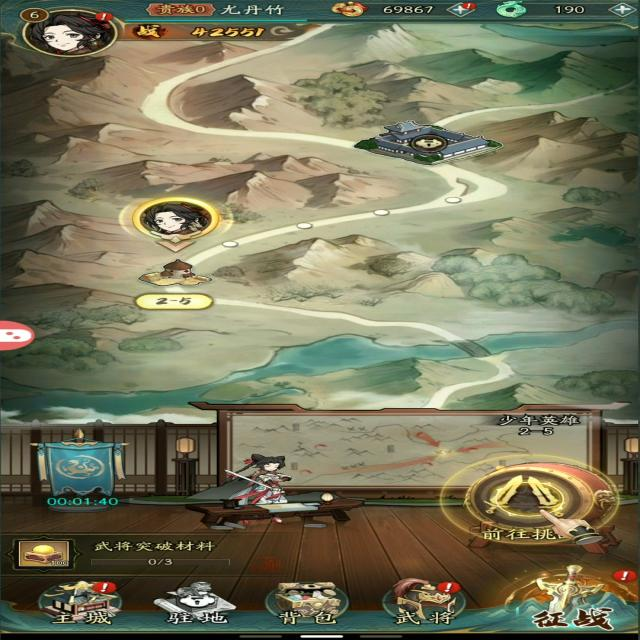hint-guide: (492, 475, 578, 523), (50, 584, 118, 623)
hint-reddot: (438, 580, 460, 593), (611, 570, 634, 582), (95, 10, 112, 24), (459, 2, 482, 11)
navigation-bag: (260, 576, 347, 627)
navigation-fight: (500, 566, 637, 635)
navigation-hero: (380, 573, 472, 626)
navigation-main: (31, 577, 138, 628)
navigation-role: (13, 6, 123, 64)
navigation-station-off: (159, 580, 230, 627)
operation-TaskCollection: (0, 527, 251, 578)
operation-Vip: (141, 2, 214, 20)
operation-confirm: (462, 457, 611, 548)
operation-quickFight: (34, 424, 152, 513)
